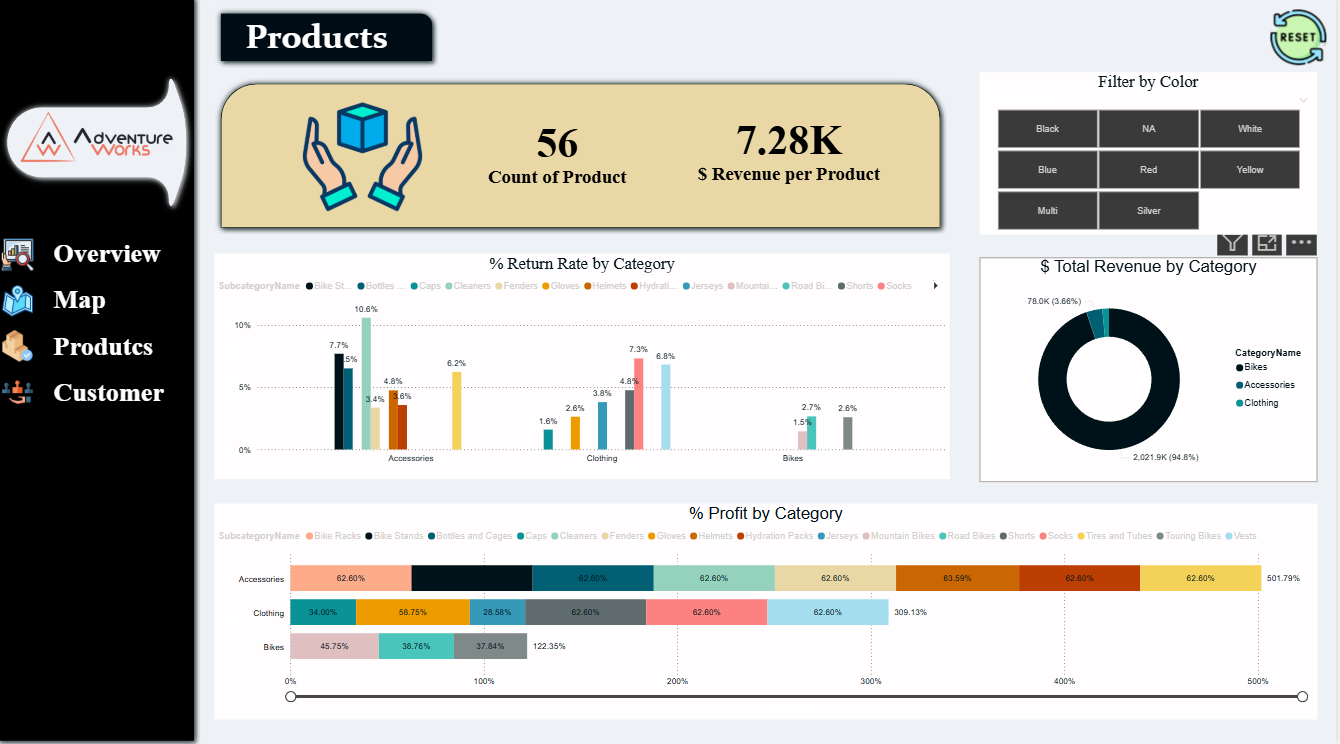

This screenshot's page, from the dashboard's own definition file:
{"tool":"powerbi","page":{"name":"Products","canvas":[1920,1080],"ordinal":2},"visuals":[{"type":"shape","box":[0,0,297.5,1080],"z":0,"group":"g3"},{"type":"shape","box":[318,24,320,86],"z":0,"group":"g1"},{"type":"card","fields":{"Values":["Table Measure.$ Averege Revenue per Product"]},"box":[970,128,338,186],"z":500,"group":"g2"},{"type":"shape","box":[12,98,286,236],"z":750,"group":"g3"},{"type":"image","box":[24,116,252,184],"z":875,"group":"g3"},{"type":"group","id":"g1","title":"Page Name","box":[318,24,320,86],"z":1000},{"type":"textbox","box":[358,32,238,68],"z":1000,"group":"g1"},{"type":"card","fields":{"Values":["Count(Product Lookup.ProductName)"]},"box":[620,154,376,142],"z":1000,"group":"g2"},{"type":"textbox","box":[64,348,234,56],"z":1000,"group":"g3"},{"type":"shape","box":[318,124,1046,224],"z":1500},{"type":"donutChart","title":"$ Total Revenue by Category","fields":{"Category":["Product Categories Lookup.CategoryName"],"Y":["Table Measure.$ Total Revenue"]},"box":[1410,380,482.5,322.5],"z":2000},{"type":"textbox","box":[64,414,234,56],"z":3000,"group":"g3"},{"type":"barChart","title":"% Profit by Category","fields":{"Category":["Product Categories Lookup.CategoryName"],"Y":["Table Measure.% Profit"],"Series":["Product Subcategories Lookup.SubcategoryName"]},"box":[317.5,732.5,1575,307.5],"z":3000},{"type":"clusteredColumnChart","title":"% Return Rate by Category","fields":{"Category":["Product Categories Lookup.CategoryName"],"Y":["Table Measure.% Return Rate"],"Series":["Product Subcategories Lookup.SubcategoryName"]},"box":[317.5,375,1050,322.5],"z":4000},{"type":"textbox","box":[64.7,480,233.3,56.7],"z":4000,"group":"g3"},{"type":"slicer","title":"Filter by Color","fields":{"Values":["Product Lookup.ProductColor"]},"box":[1410,116,482,232],"z":5000},{"type":"textbox","box":[64.7,546.7,233.3,55],"z":5000,"group":"g3"},{"type":"image","box":[0,413.9,73.3,56.7],"z":6000,"group":"g3"},{"type":"group","id":"g2","title":"Total Order","box":[620,128,688,186],"z":6001},{"type":"image","box":[440,140,180,194],"z":6002},{"type":"actionButton","box":[24,12,100,40],"z":6003},{"type":"actionButton","box":[1814,6,104,122],"z":6004},{"type":"group","id":"g3","title":"Navigate","box":[0,0,298,1080],"z":6005},{"type":"image","box":[0,545,73.3,56.7],"z":7000,"group":"g3"},{"type":"image","box":[0,348.3,73.3,56.7],"z":8000,"group":"g3"},{"type":"image","box":[0,479.4,73.3,56.7],"z":9000,"group":"g3"}]}

Visuals, with their boxes on the page's 1920x1080 design canvas (x1, y1, x2, y2). These are canvas units, not pixel positions in the 1340x744 screenshot, which may show the page scaled, cropped or inside an application window:
shape: Rect(0, 0, 298, 1080)
shape: Rect(318, 24, 638, 110)
card - Table Measure.$ Averege Revenue per Product: Rect(970, 128, 1308, 314)
shape: Rect(12, 98, 298, 334)
image: Rect(24, 116, 276, 300)
"Page Name" group: Rect(318, 24, 638, 110)
textbox: Rect(358, 32, 596, 100)
card - Count(Product Lookup.ProductName): Rect(620, 154, 996, 296)
textbox: Rect(64, 348, 298, 404)
shape: Rect(318, 124, 1364, 348)
"$ Total Revenue by Category" donutChart: Rect(1410, 380, 1892, 702)
textbox: Rect(64, 414, 298, 470)
"% Profit by Category" barChart: Rect(318, 732, 1892, 1040)
"% Return Rate by Category" clusteredColumnChart: Rect(318, 375, 1368, 698)
textbox: Rect(65, 480, 298, 537)
"Filter by Color" slicer: Rect(1410, 116, 1892, 348)
textbox: Rect(65, 547, 298, 602)
image: Rect(0, 414, 73, 471)
"Total Order" group: Rect(620, 128, 1308, 314)
image: Rect(440, 140, 620, 334)
actionButton: Rect(24, 12, 124, 52)
actionButton: Rect(1814, 6, 1918, 128)
"Navigate" group: Rect(0, 0, 298, 1080)
image: Rect(0, 545, 73, 602)
image: Rect(0, 348, 73, 405)
image: Rect(0, 479, 73, 536)
